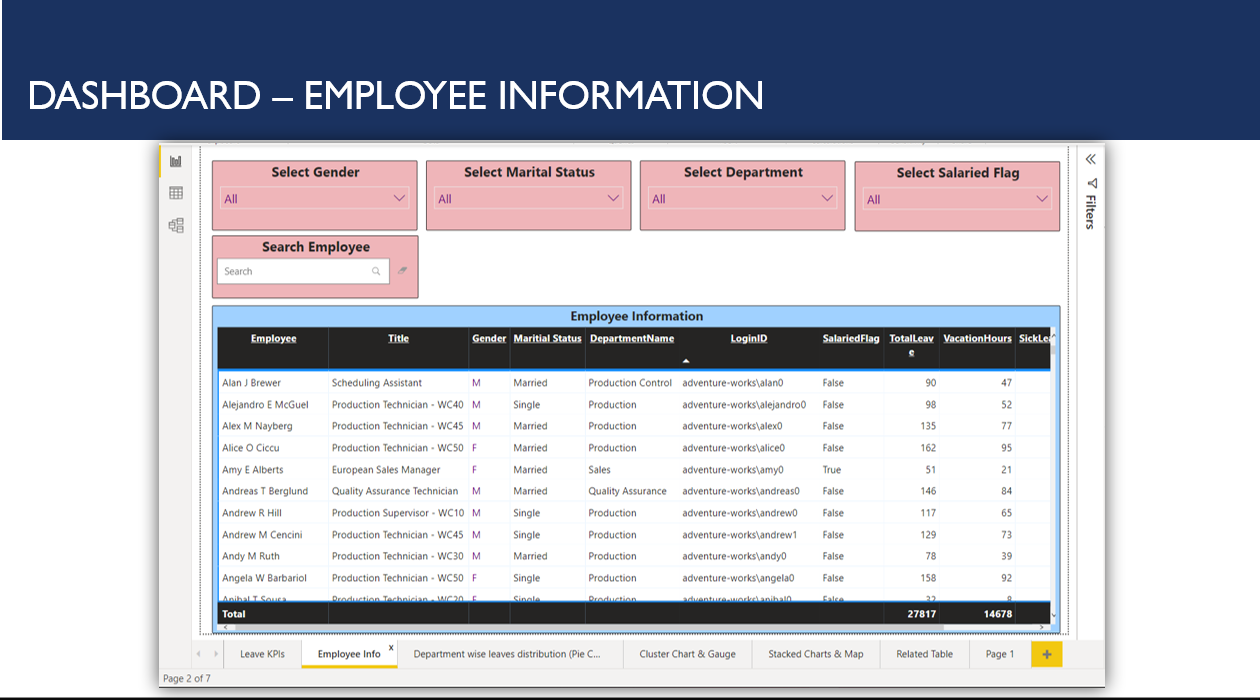

Layout of this report page (visuals, bound fields, positions):
{"tool":"powerbi","page":{"name":"Employee Info","canvas":[1280,720],"ordinal":1},"visuals":[{"type":"tableEx","title":"Employee Information","fields":{"Values":["DimEmployee.Employee","DimEmployee.Title","DimEmployee.Gender","DimEmployee.Maritial Status","DimEmployee.DepartmentName","DimEmployee.LoginID","DimEmployee.SalariedFlag","DimEmployee.TotalLeave","DimEmployee.VacationHours","DimEmployee.SickLeaveHours","DimEmployee.LeaveDays"]},"box":[17.2,236.3,1252.5,484],"z":0},{"type":"slicer","title":"Select Gender","fields":{"Values":["DimEmployee.Gender"]},"box":[16.9,22.9,303.4,103.6],"z":1000},{"type":"slicer","title":"Select Marital Status","fields":{"Values":["DimEmployee.Maritial Status"]},"box":[332.3,22.9,303.4,103.6],"z":2000},{"type":"slicer","title":"Select Department","fields":{"Values":["DimGeography.City"]},"box":[649,22.9,303.4,103.6],"z":3000},{"type":"slicer","title":"Select Salaried Flag","fields":{"Values":["DimEmployee.SalariedFlag"]},"box":[965.5,23.4,303.4,103.6],"z":4000},{"type":"textFilter25A4896A83E0487089E2B90C9AE57C8A","title":"Search Employee","fields":{"field":["DimEmployee.Employee"]},"box":[16.1,133,305.1,92.9],"z":5000}]}

Visuals, with their boxes on the page's 1280x720 design canvas (x1, y1, x2, y2). These are canvas units, not pixel positions in the 1260x700 screenshot, which may show the page scaled, cropped or inside an application window:
"Employee Information" tableEx: x1=17, y1=236, x2=1270, y2=720
"Select Gender" slicer: x1=17, y1=23, x2=320, y2=126
"Select Marital Status" slicer: x1=332, y1=23, x2=636, y2=126
"Select Department" slicer: x1=649, y1=23, x2=952, y2=126
"Select Salaried Flag" slicer: x1=966, y1=23, x2=1269, y2=127
"Search Employee" textFilter25A4896A83E0487089E2B90C9AE57C8A: x1=16, y1=133, x2=321, y2=226
